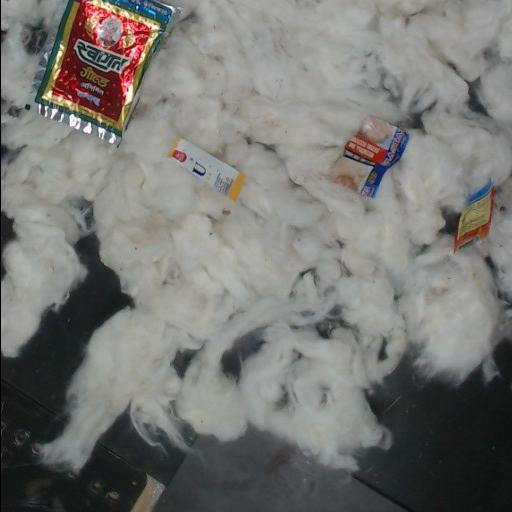conveyor belt: (1, 236, 512, 511), (225, 333, 261, 375), (26, 25, 46, 54), (174, 353, 191, 374), (1, 215, 12, 246)
cotton: (1, 0, 512, 470)
packet: (26, 0, 180, 144), (333, 119, 408, 197), (170, 138, 243, 199), (453, 181, 493, 252)
